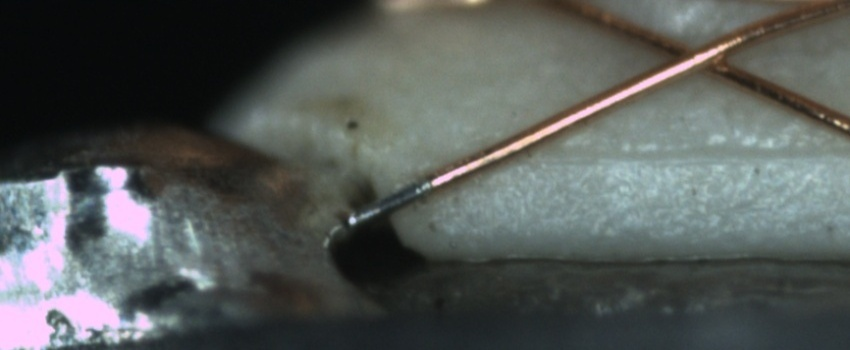CL: (646, 26, 749, 84)
DL: (491, 125, 846, 189)
TS: (347, 178, 433, 229)
